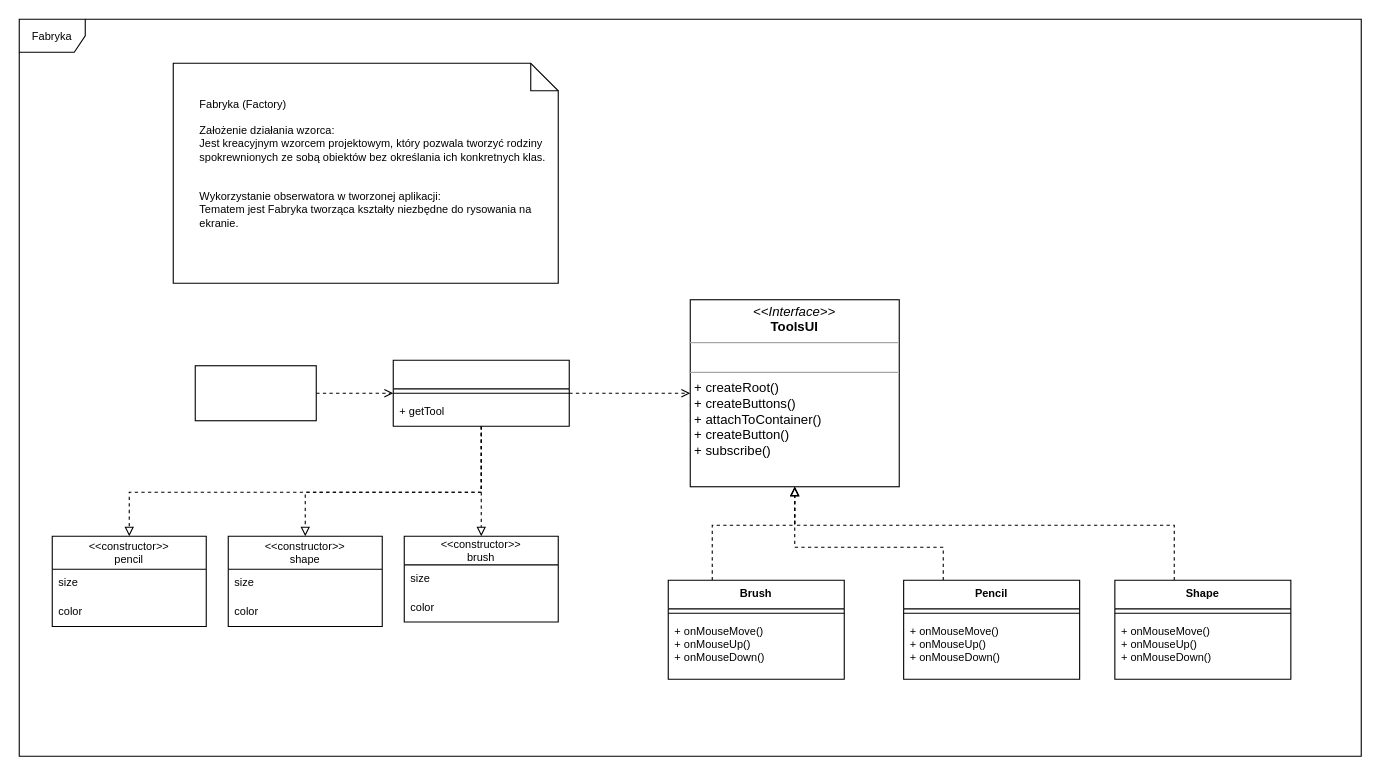
The diagram is 1381 pixels wide and 776 high, and some of its shapes have lost their labels. The box of each missing label's shape, as (x1, y1, x2, y2) in pixels:
Main (after): (194, 365, 316, 421)
ToolsFactory: (392, 359, 569, 426)
